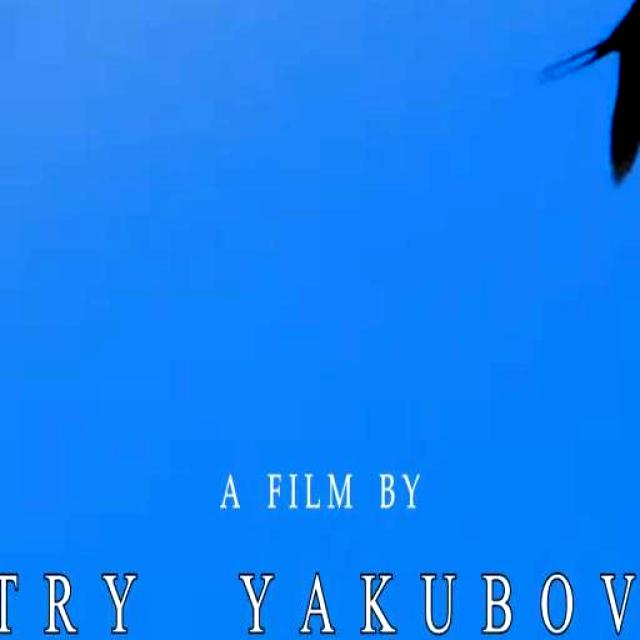airplane: (532, 0, 640, 192)
